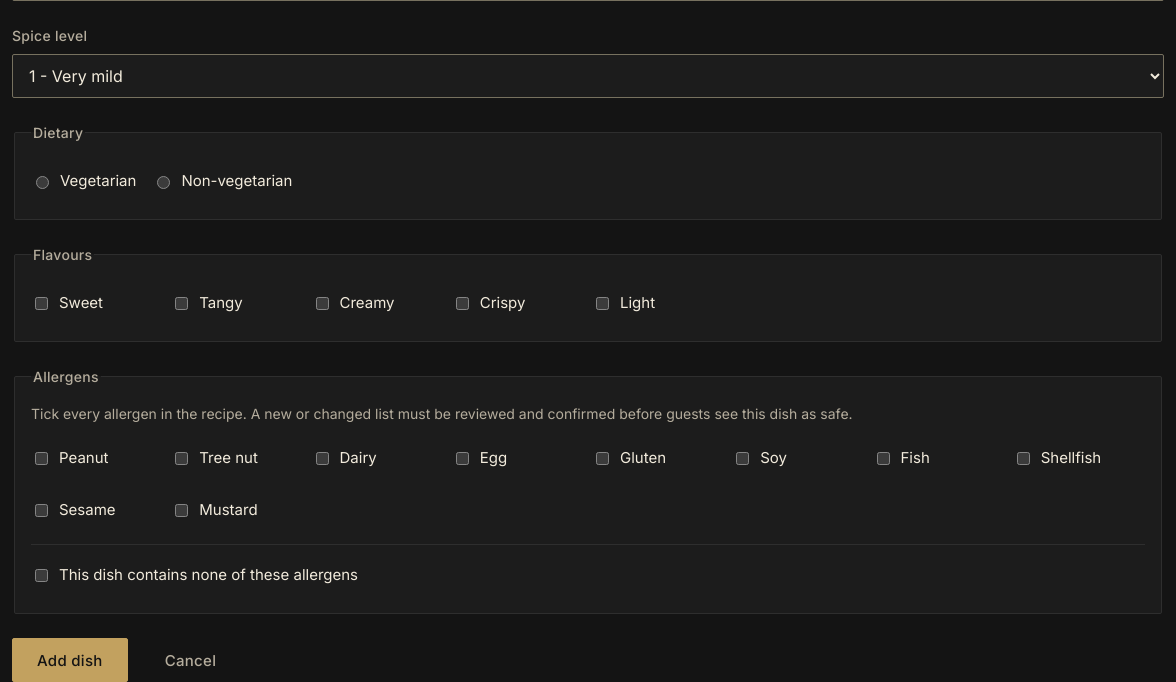
MenuForm › 4. unanswered allergen field shows allergen validation error
(page scrolled)
What coordinates should you click on to do the following:
click the button "Add dish"
I would click on:
 (70, 660)
Its box is [12, 638, 128, 681].
(page scrolled)
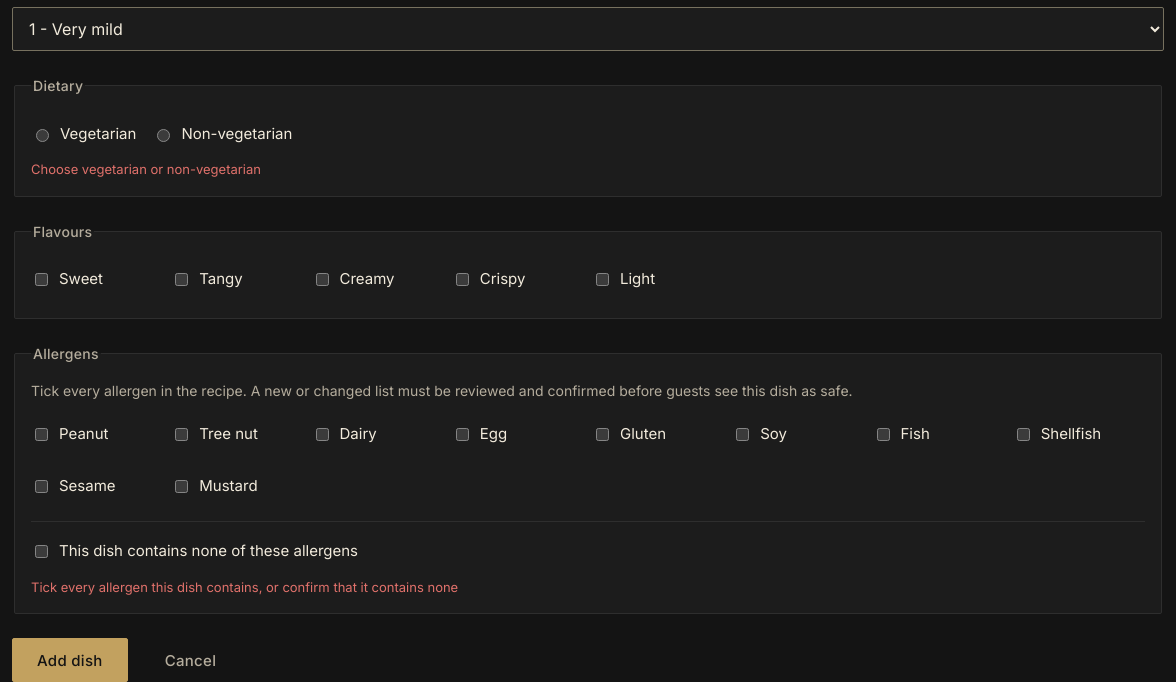
Check: the text "Tick every allergen this dish contains, or confirm that it contains none" is shown, box [31, 578, 458, 594]
